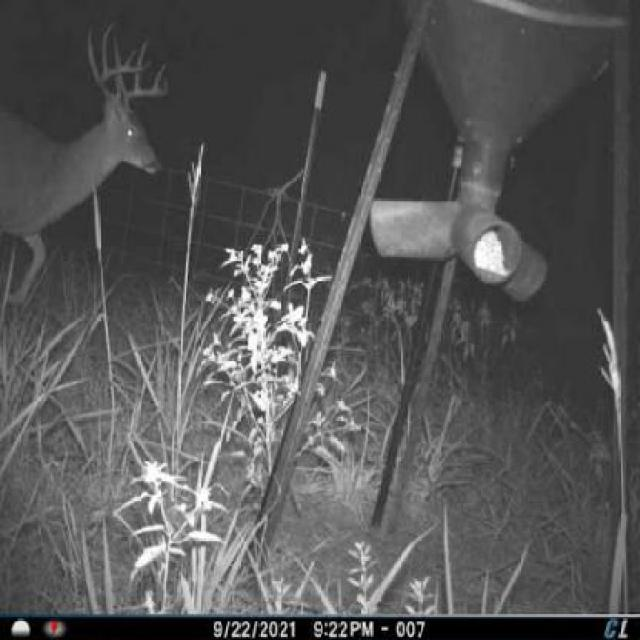Deer: (0, 6, 182, 302)
